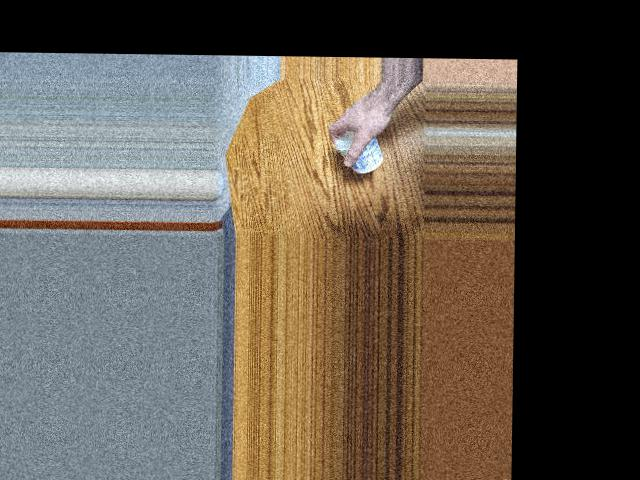cotage: (335, 122, 391, 171)
